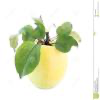Apple leaf: (14, 41, 41, 83), (54, 33, 84, 56), (20, 20, 49, 43)
